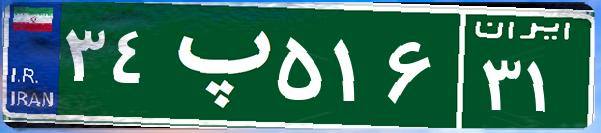1: (330, 28, 385, 110), (525, 38, 570, 115)
3: (57, 26, 110, 107), (475, 38, 525, 113)
4: (110, 28, 158, 105)
5: (273, 28, 330, 110)
6: (385, 28, 445, 110)
پ: (158, 15, 273, 115)
